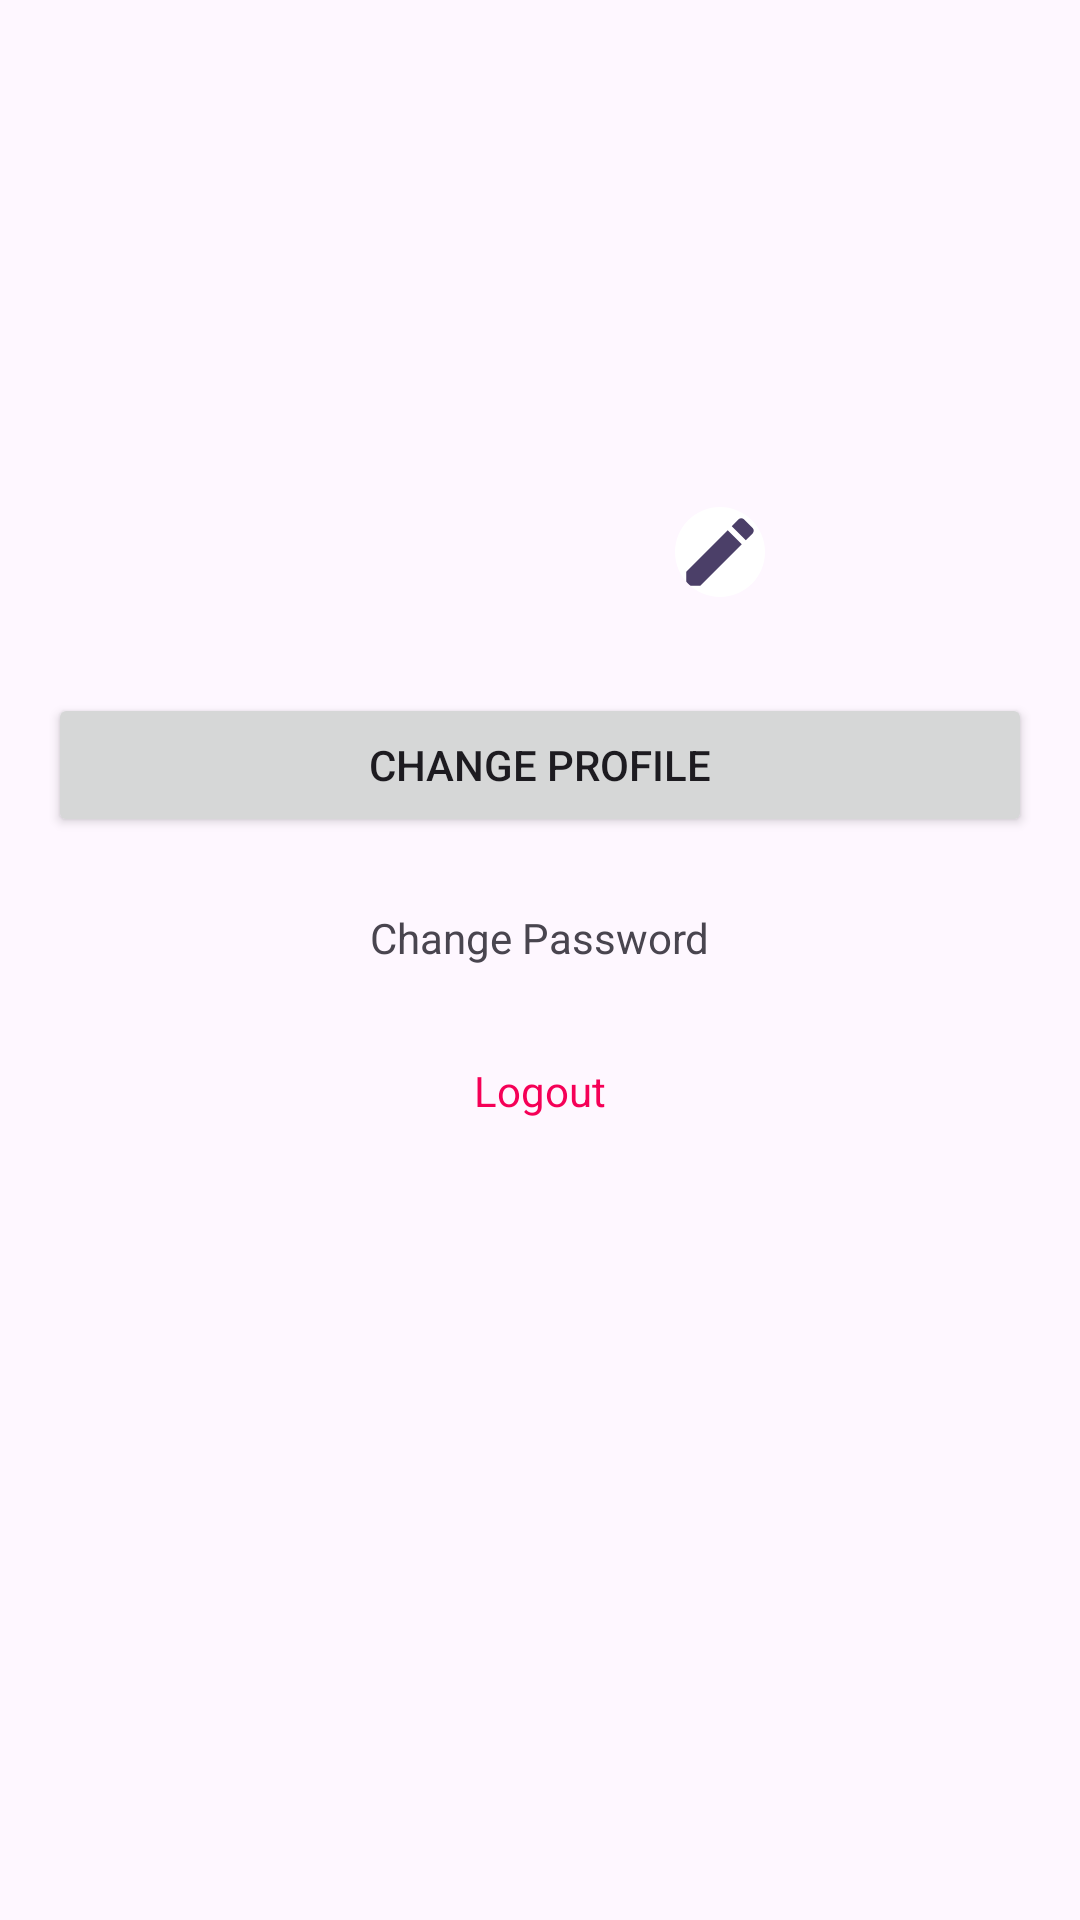

Named icons in this screenshot (1080w x 1920h) and their centers, (x,y):
edit: (720,552)
